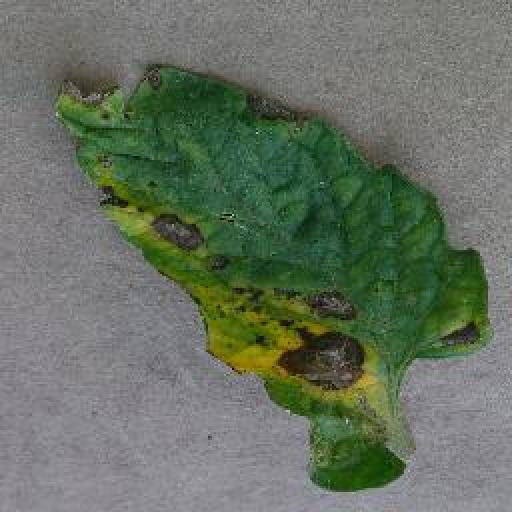disease_tomato: (60, 58, 492, 494)
